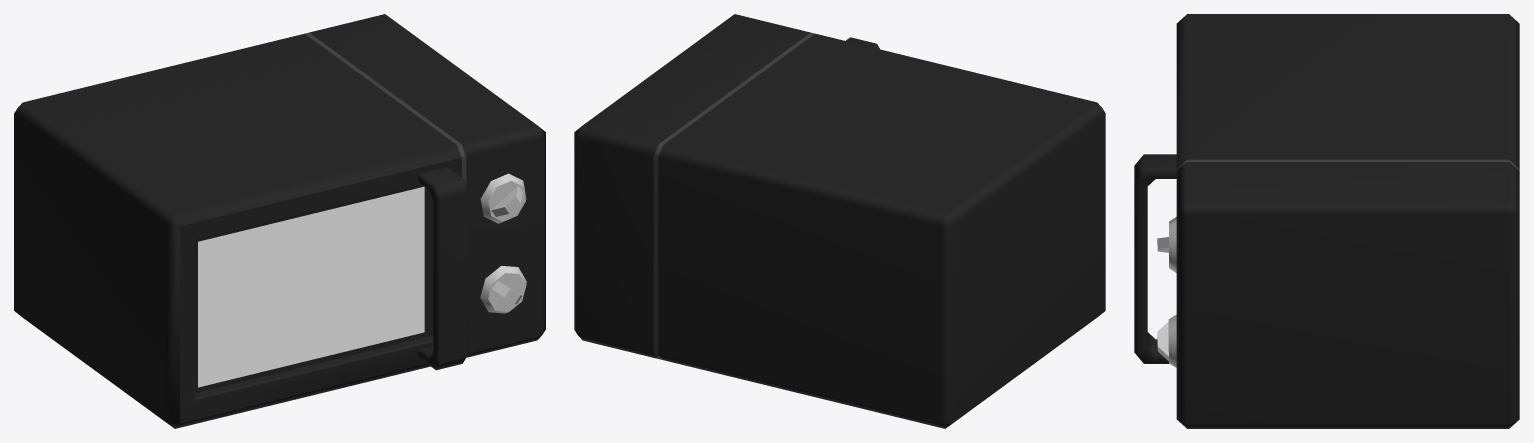
File: electronics_019.fbx
The picture shows the model from 3 angles, left to right: view 1: azimuth 30°, elevation 25°; view 2: azimuth 150°, elevation 25°; view 3: azimuth 270°, elevation 25°; orthographic projection. The views are drawn at different scales.
Visible parts, largest first — view 1: electronics_019; view 2: electronics_019; view 3: electronics_019.
Boxes of the visible parts, bbox=[...] form: electronics_019: bbox=[14, 14, 545, 428]; electronics_019: bbox=[574, 14, 1105, 428]; electronics_019: bbox=[1134, 14, 1519, 428].
Size of the model in its own units: 65.45 by 54.35 by 35.44.
